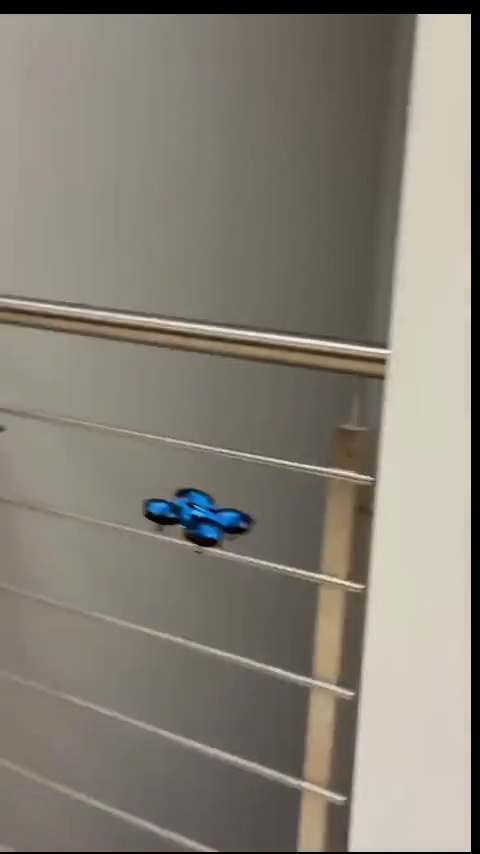drone: (142, 485, 248, 551)
